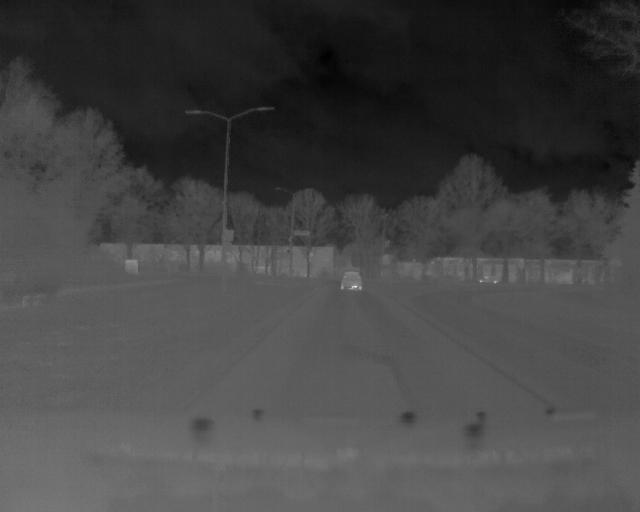car: (337, 269, 365, 293)
